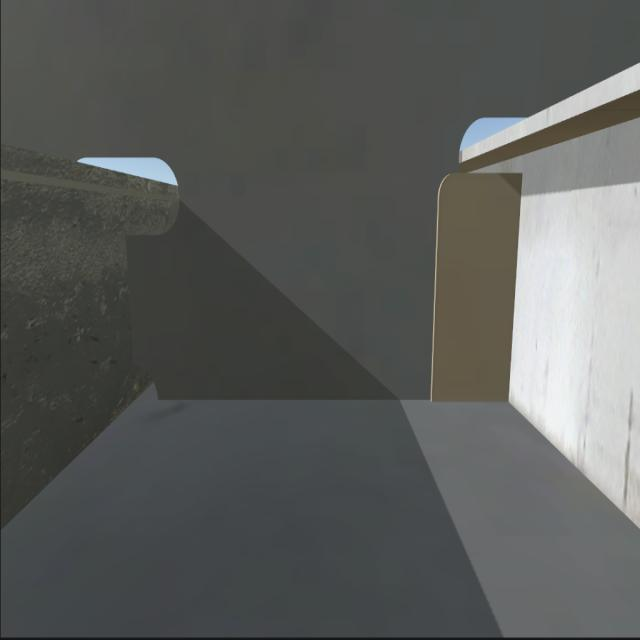fillet_hole: (130, 361, 160, 401)
fillet_yong_jeop_jang: (165, 394, 511, 404)
longi_yong_jeop_jang: (508, 172, 525, 405), (121, 234, 133, 360)
plate_CP05: (432, 172, 518, 402), (130, 248, 130, 248)
